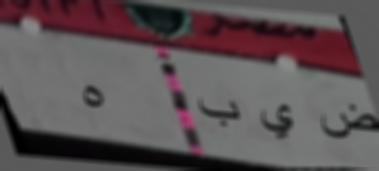5: (78, 75, 109, 116)
baa: (194, 89, 242, 132)
daad: (320, 97, 378, 147)
yaa: (254, 104, 298, 142)
